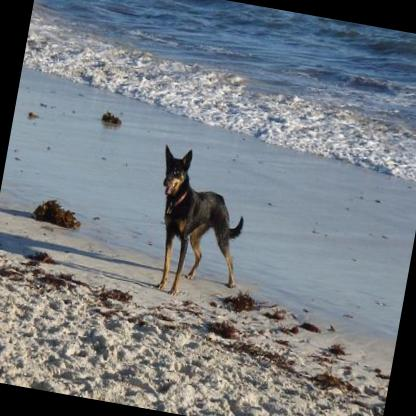kelpie: (137, 139, 257, 305)
